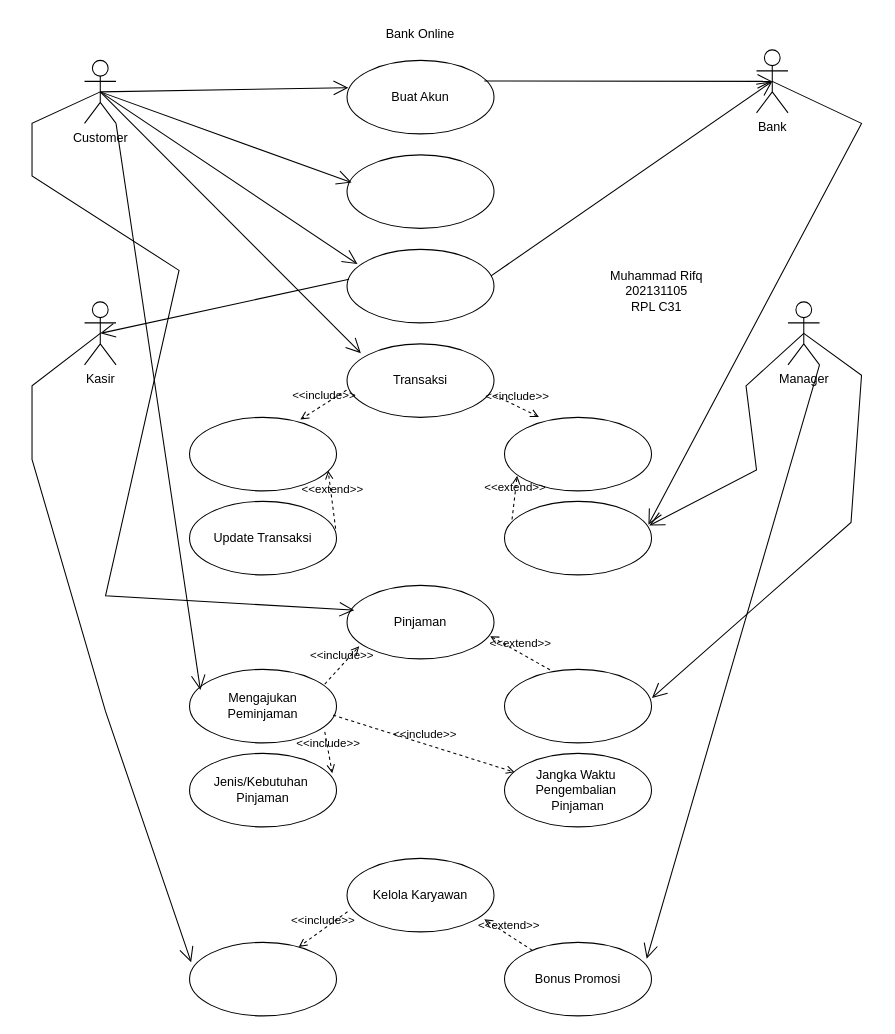
The diagram is 895 pixels wide and 1034 high, and some of its shapes have lost their labels. Each missing label, with the centre of its shape:
"Cek Nilai Bunga" goes at (577,537).
"Cek Saldo" goes at (420,191).
"Credit" goes at (262,453).
"Debit" goes at (577,453).
"Gaji" goes at (262,978).
"Menyetujui Peminjaman" goes at (577,705).
"Transfer" goes at (420,285).
